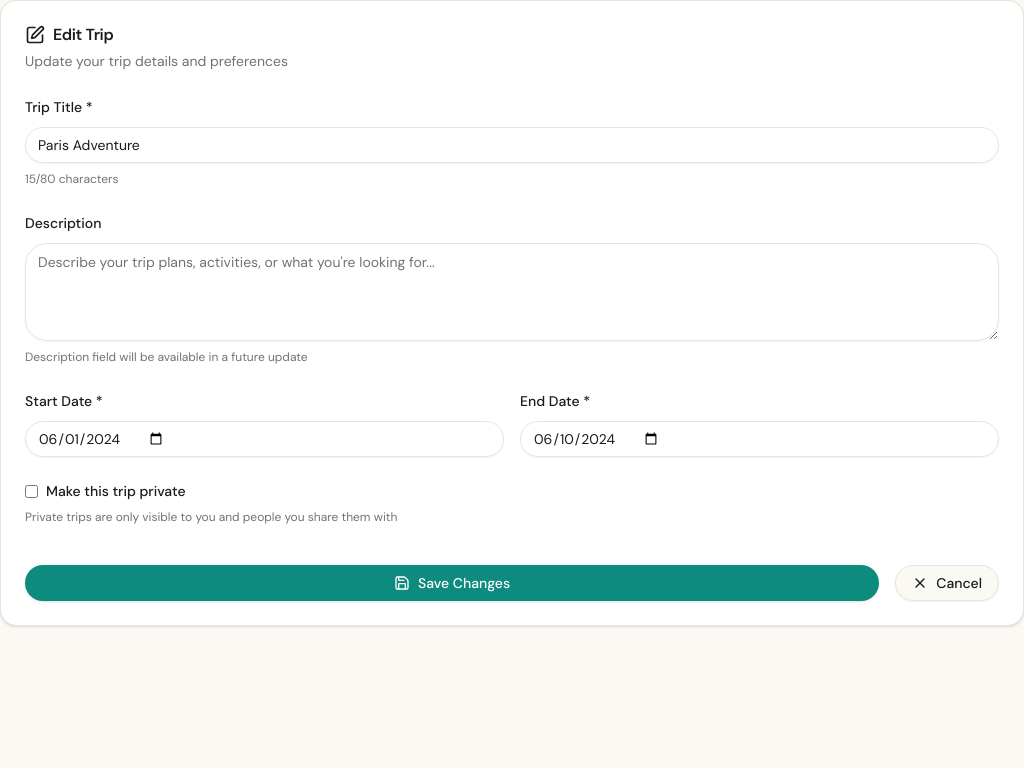
Test case: TripEditForm › should show generic error when non-API error occurs
Click the button "Save Changes": click(452, 583) [25,565,879,601]
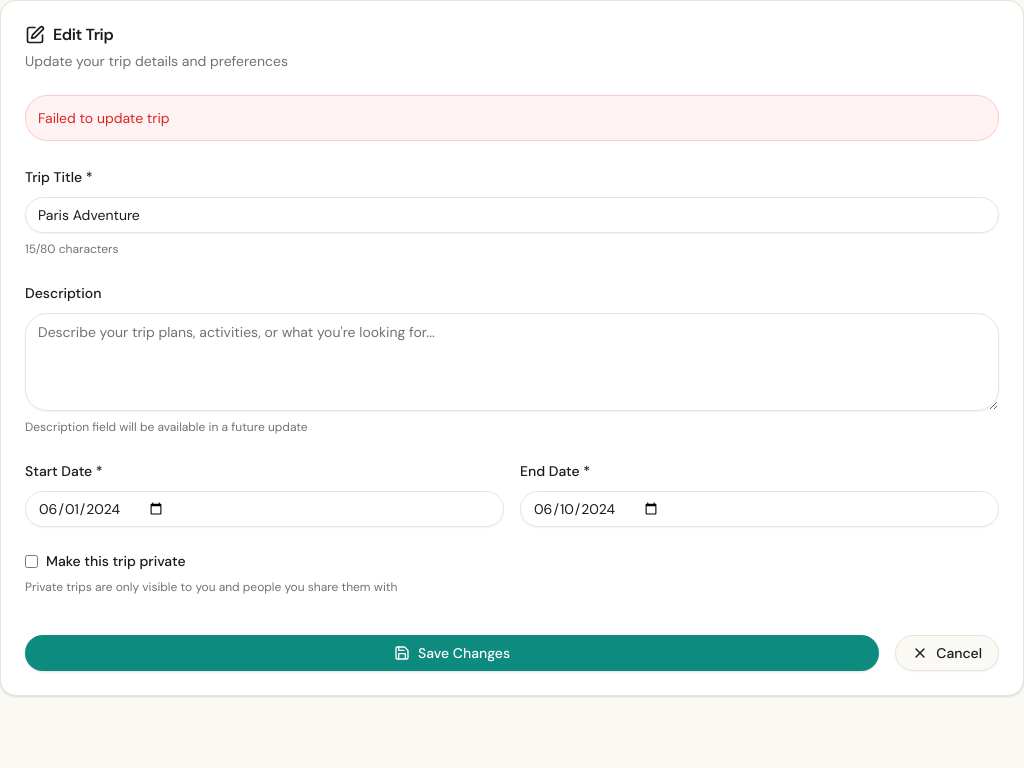
Check: the text "Failed to update trip" is shown, box [25,95,999,141]
